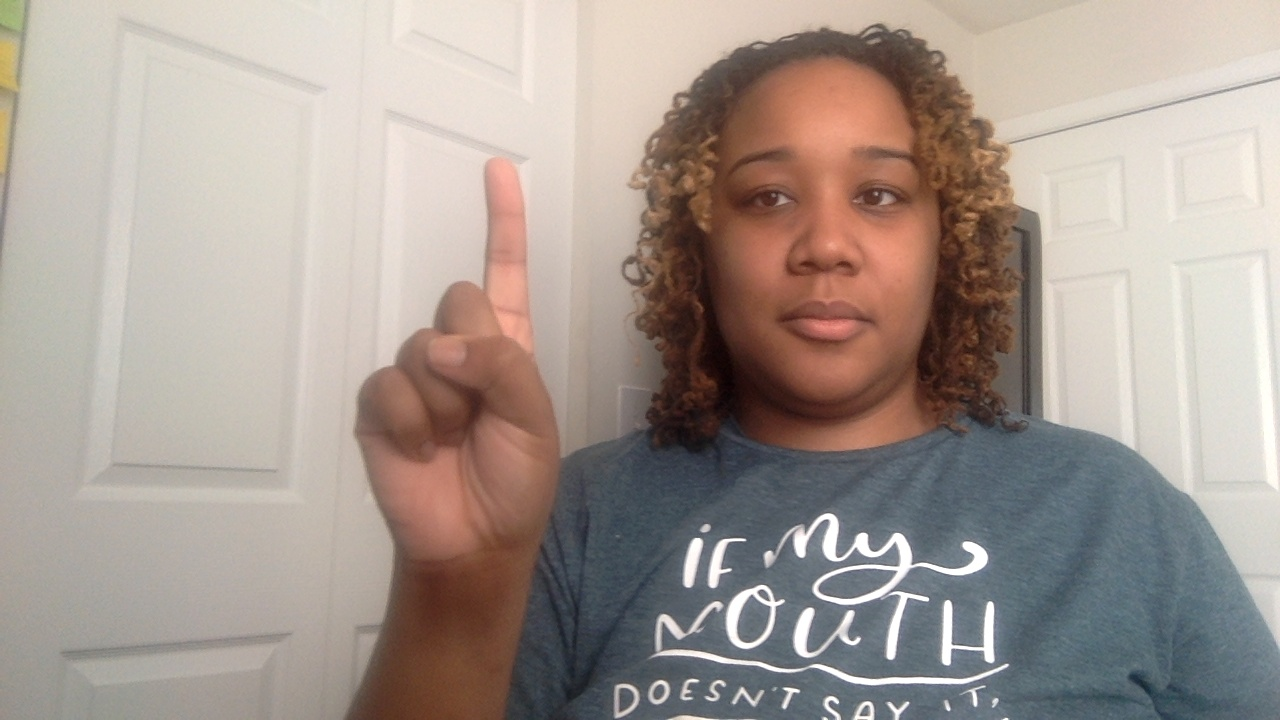up: (337, 148, 580, 718)
